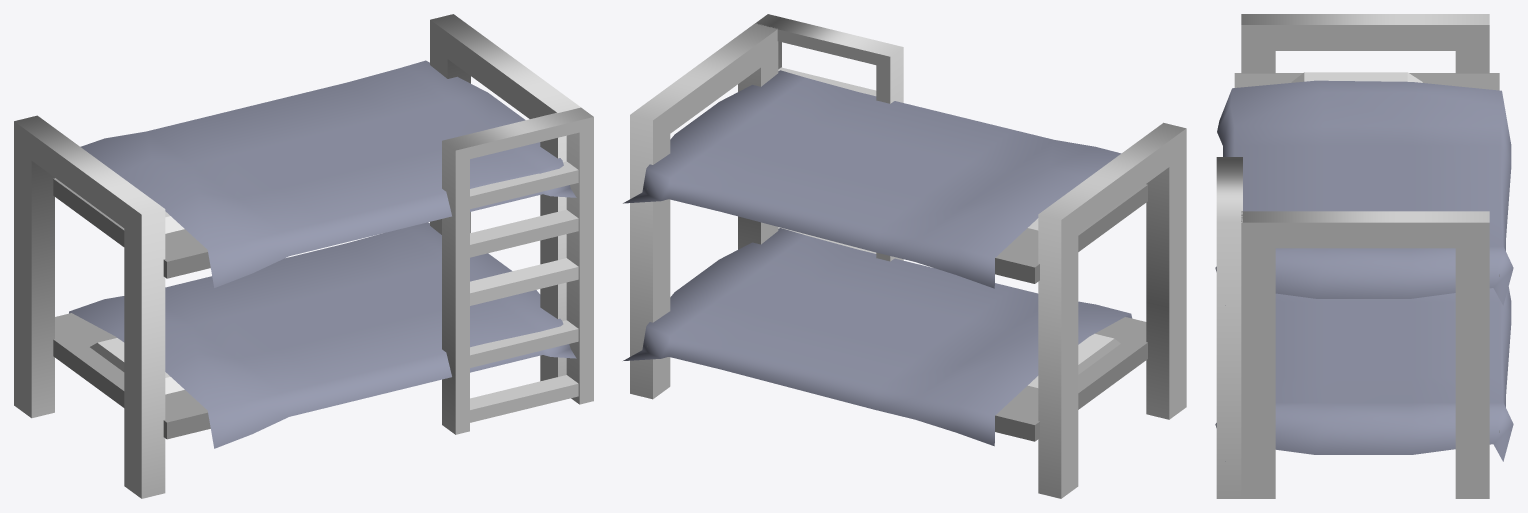
File: bunkbed.fbx
3 renders of one model, left to right at view 1: azimuth 30°, elevation 25°; view 2: azimuth 150°, elevation 25°; view 3: azimuth 270°, elevation 25°, orthographic. The views are drawn at different scales.
Visible parts, largest first — view 1: bunkbedwhole; view 2: bunkbedwhole; view 3: bunkbedwhole.
Boxes of the visible parts, <box> form: bunkbedwhole: <box>14,14,593,498</box>; bunkbedwhole: <box>623,14,1186,498</box>; bunkbedwhole: <box>1215,14,1513,498</box>.
Bounding box in the file's own units: 1.87 × 1.15 × 1.13.
